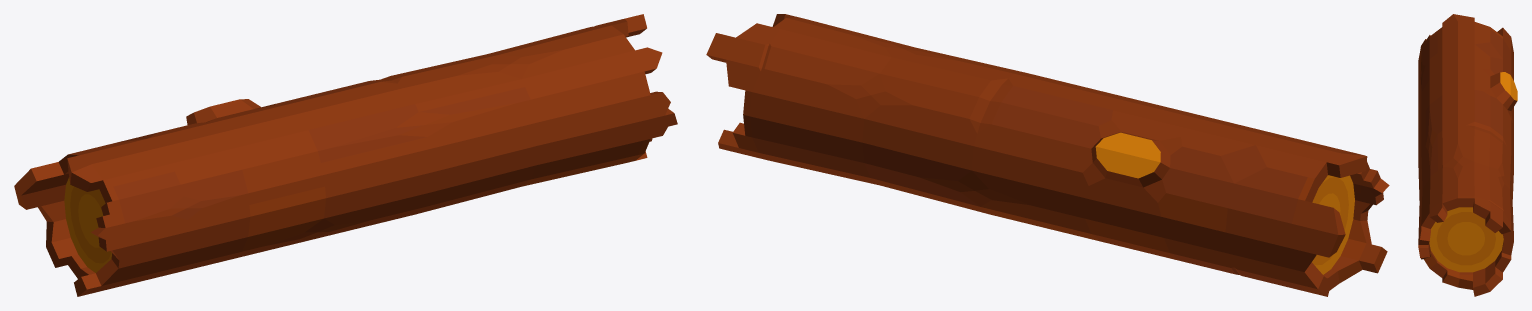
File: Log_4.fbx
The picture shows the model from 3 angles, left to right: view 1: azimuth 30°, elevation 25°; view 2: azimuth 150°, elevation 25°; view 3: azimuth 270°, elevation 25°; orthographic projection. The views are drawn at different scales.
Visible parts, largest first — view 1: Circle.002; view 2: Circle.002; view 3: Circle.002.
Part boxes in pixels (left/top/right/bottom): Circle.002: left=14, top=14, right=677, bottom=296; Circle.002: left=706, top=14, right=1389, bottom=296; Circle.002: left=1418, top=14, right=1517, bottom=296.
Size of the model in its own units: 105 by 20.44 by 21.48.
